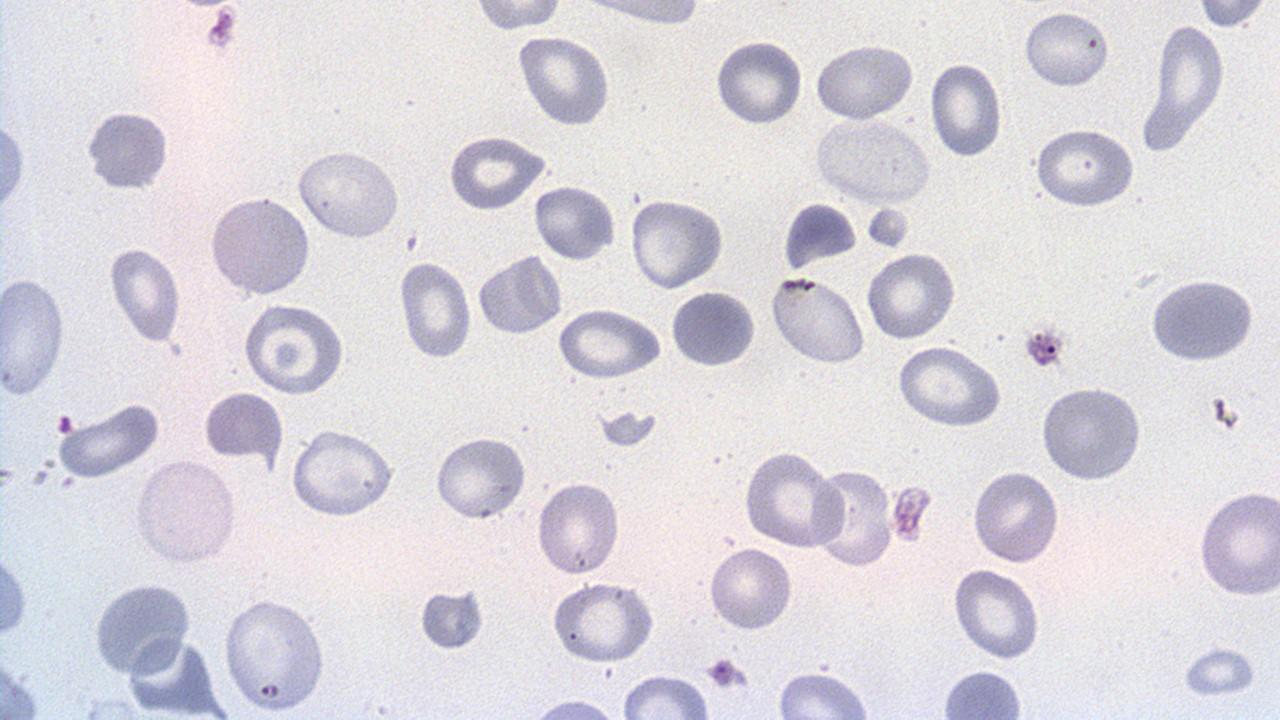Platelets: (780, 200, 860, 270), (416, 584, 486, 655), (888, 484, 936, 544), (195, 2, 242, 56), (599, 408, 657, 451), (862, 206, 914, 250), (1022, 324, 1064, 369)
RBC: (220, 594, 331, 714), (132, 456, 241, 569), (208, 192, 314, 298), (812, 114, 933, 205), (1039, 384, 1149, 483), (286, 425, 398, 521), (740, 450, 844, 550), (294, 145, 403, 240), (242, 300, 348, 396), (89, 579, 192, 677), (1196, 484, 1280, 601), (546, 579, 658, 664), (512, 33, 612, 127), (894, 343, 1004, 428), (628, 196, 726, 289), (970, 466, 1060, 566), (767, 274, 866, 364), (812, 465, 896, 571), (1030, 127, 1138, 209), (950, 564, 1042, 660), (432, 431, 528, 523), (54, 400, 163, 480), (534, 479, 622, 578), (864, 250, 958, 342), (712, 35, 804, 128), (812, 40, 914, 123), (123, 632, 223, 716), (706, 542, 795, 634), (555, 306, 665, 380), (1, 275, 68, 396), (444, 133, 546, 212), (1155, 20, 1227, 130), (475, 253, 566, 338), (108, 243, 184, 344), (928, 58, 1004, 159), (398, 259, 473, 360), (668, 288, 760, 370), (1023, 7, 1111, 91), (532, 181, 616, 263), (200, 389, 284, 468), (772, 668, 876, 718), (936, 666, 1028, 718), (618, 673, 714, 718), (1, 92, 28, 242), (469, 1, 568, 32), (1194, 1, 1272, 30)
WBC: (235, 0, 1101, 720), (0, 0, 478, 720), (219, 600, 335, 712), (134, 456, 242, 566), (207, 194, 317, 300), (1039, 384, 1149, 485), (288, 424, 402, 520), (1146, 273, 1258, 365), (91, 578, 192, 680), (546, 578, 658, 666), (122, 634, 230, 714), (80, 105, 176, 194), (1, 275, 70, 398), (668, 286, 760, 370), (474, 253, 564, 336), (2, 87, 29, 264), (1, 544, 29, 648)
